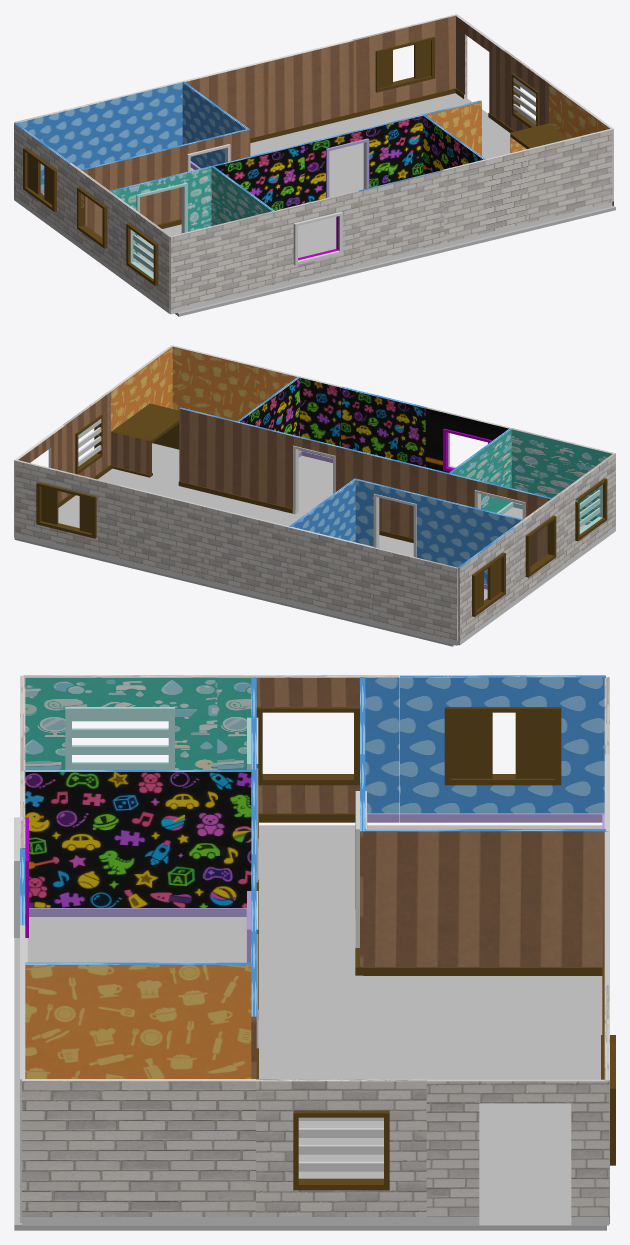
File: casaUnida.fbx
The picture shows the model from 3 angles, top to bottom: view 1: azimuth 30°, elevation 25°; view 2: azimuth 150°, elevation 25°; view 3: azimuth 270°, elevation 25°; orthographic projection. The views are drawn at different scales.
Visible parts, largest first — view 1: Cube.012; view 2: Cube.012; view 3: Cube.012.
Part boxes in pixels (bbox=[...]): Cube.012: bbox=[14, 14, 615, 316]; Cube.012: bbox=[14, 345, 615, 646]; Cube.012: bbox=[14, 675, 615, 1230].
Bounding box in the file's own units: 29862 × 5062 × 18481.
